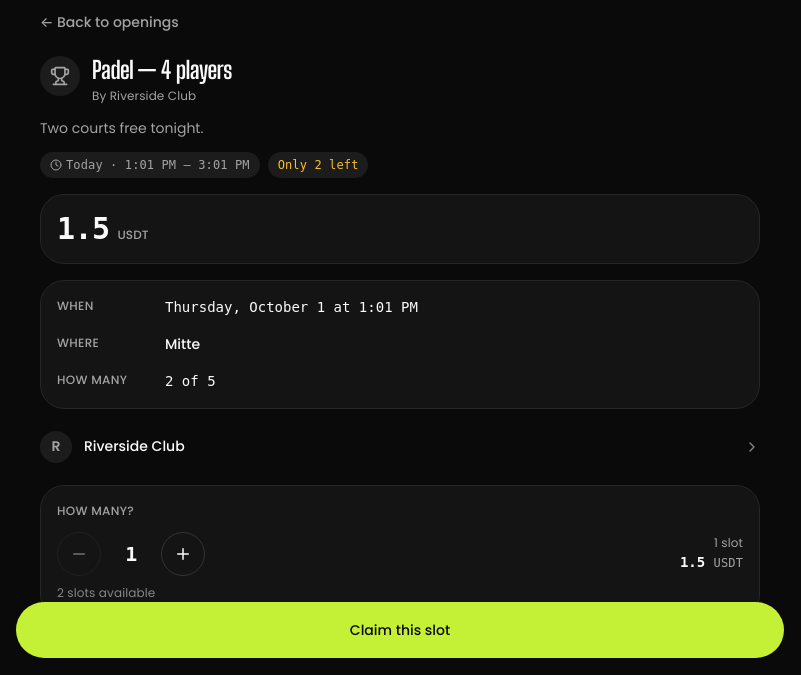
quantity selector (Phase 5n-D) › bounds are structural: minus is dead at 1, plus is dead at the maximum
Expected: the text "How many?" is shown, x1=57 y1=502 x2=134 y2=518
Expected: the button named "one fewer slot" is disabled, x1=57 y1=532 x2=101 y2=576
Click the button named "one more slot" at (183, 554), box x1=161 y1=532 x2=205 y2=576
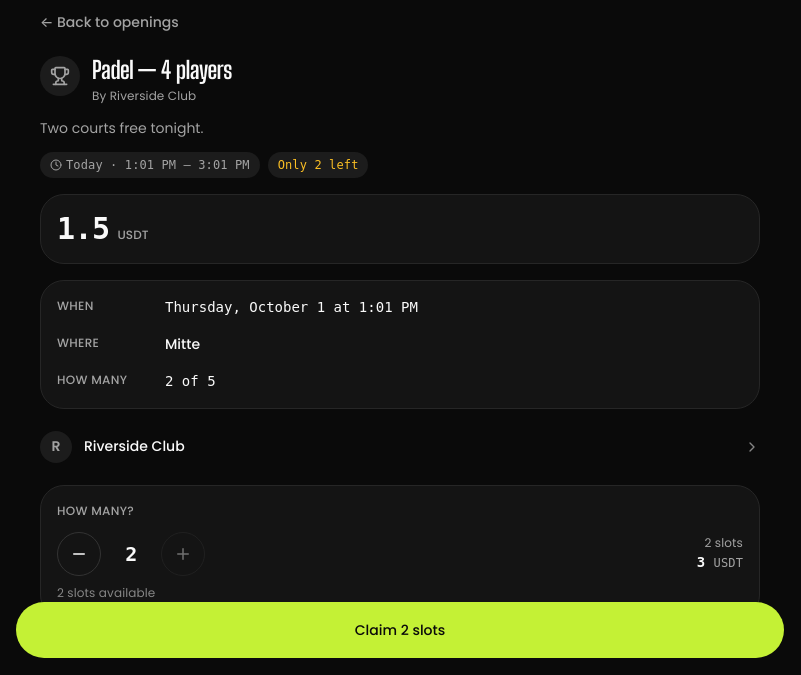
Expected: the button named "one fewer slot" is enabled, x1=57 y1=532 x2=101 y2=576
Expected: the button named "one more slot" is disabled, x1=161 y1=532 x2=205 y2=576
